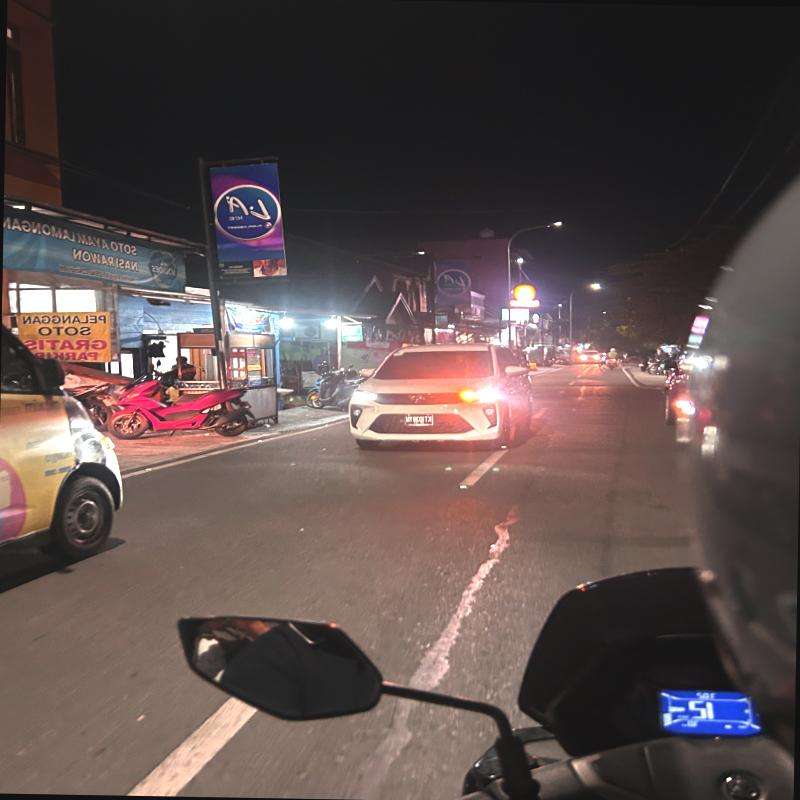license plate on a car: (401, 412, 430, 425)
